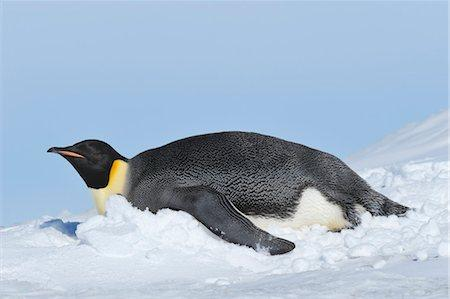king: (41, 103, 424, 266)
